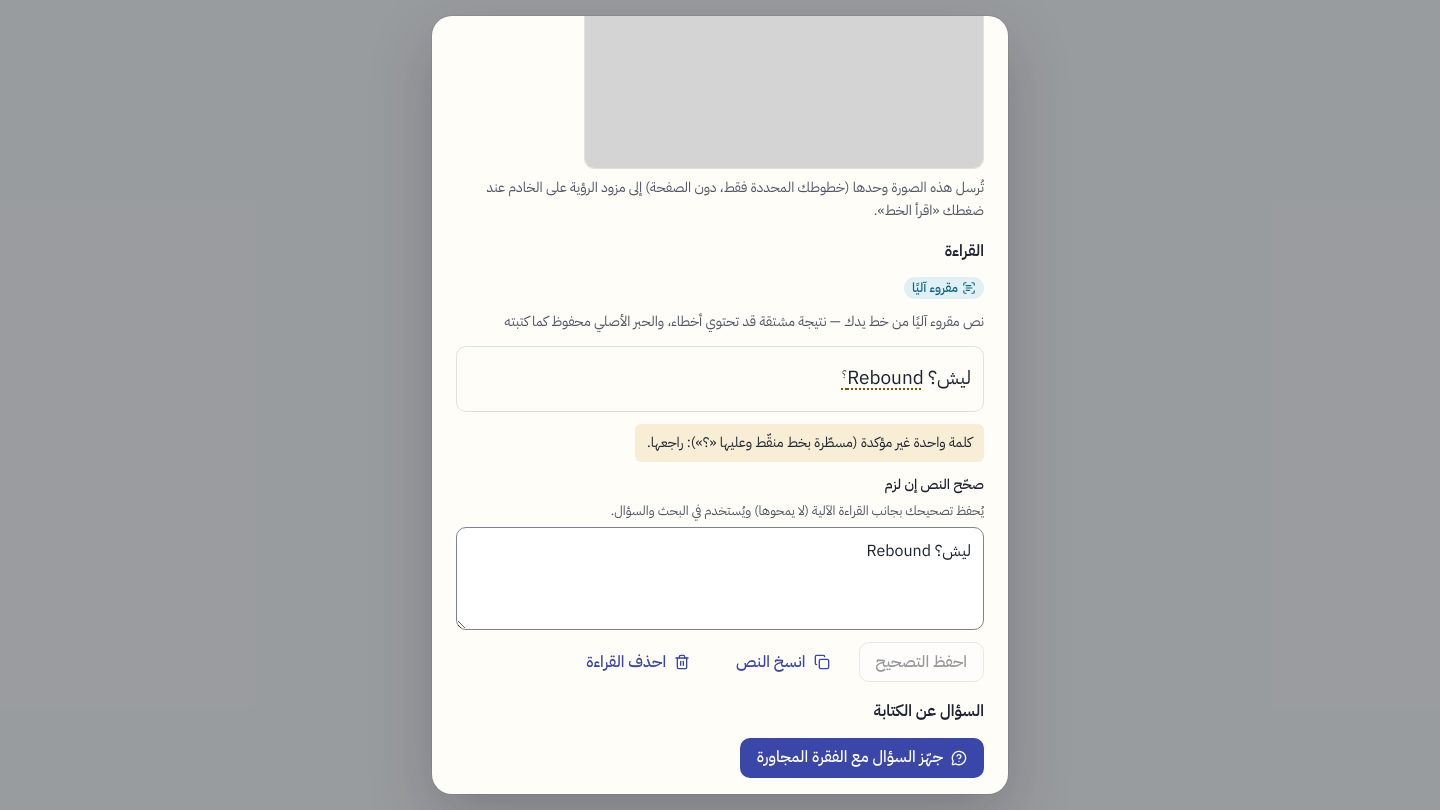
«اسأل عن المحدد» › (review) «رجوع» from the composed question returns to the reading (no second reading offered)
This screenshot has width=1440, height=810.
(page scrolled)
Check: the text "مقروء آليًا" is shown, box x1=912 y1=278 x2=958 y2=298
Click the button "جهّز السؤال مع الفقرة المجاورة".
click(862, 758)  # box x1=740 y1=738 x2=984 y2=778
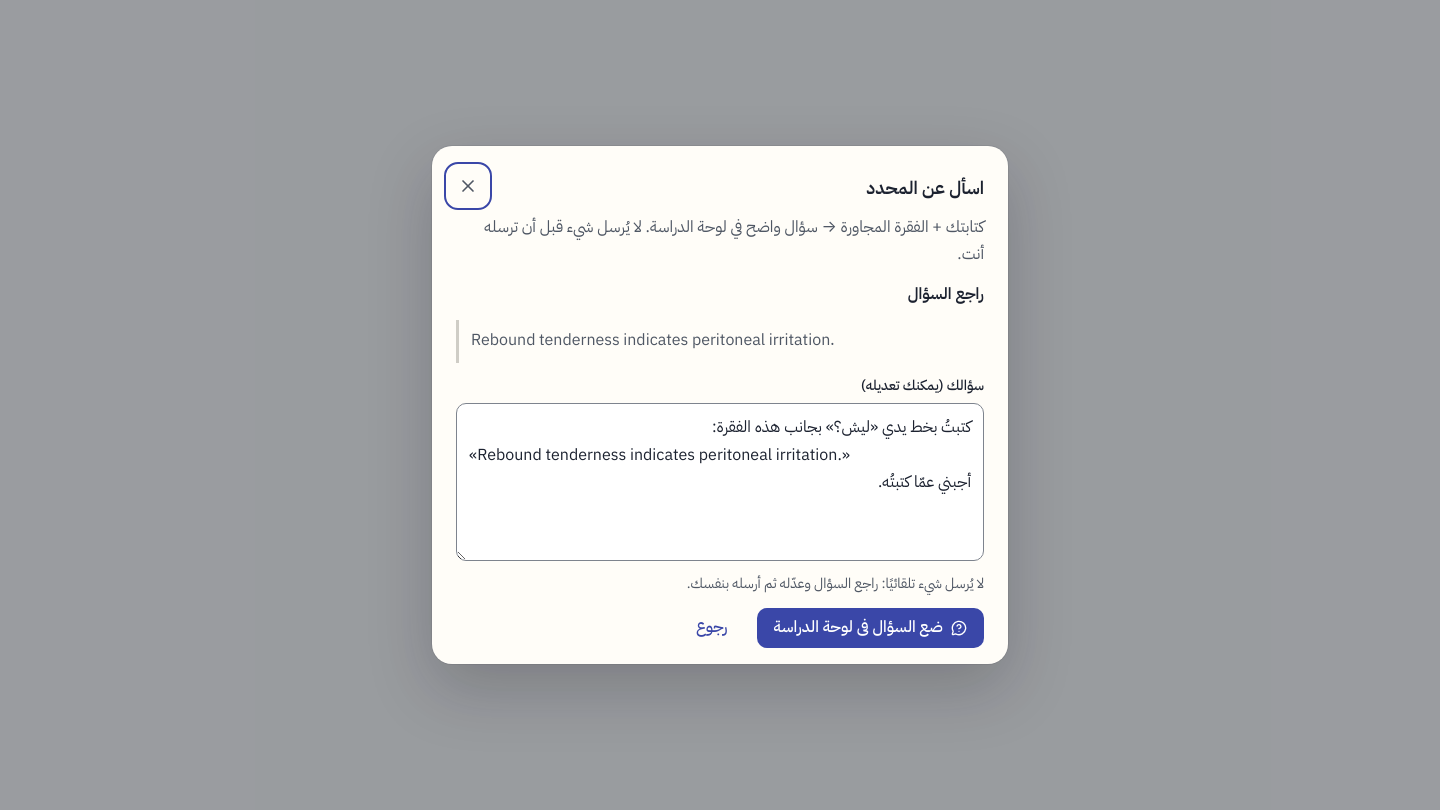
Check: the text box labelled "سؤالك (يمكنك تعديله)" is shown, box x1=456 y1=403 x2=984 y2=561
Click the button "رجوع".
click(712, 628)  # box x1=679 y1=608 x2=744 y2=648
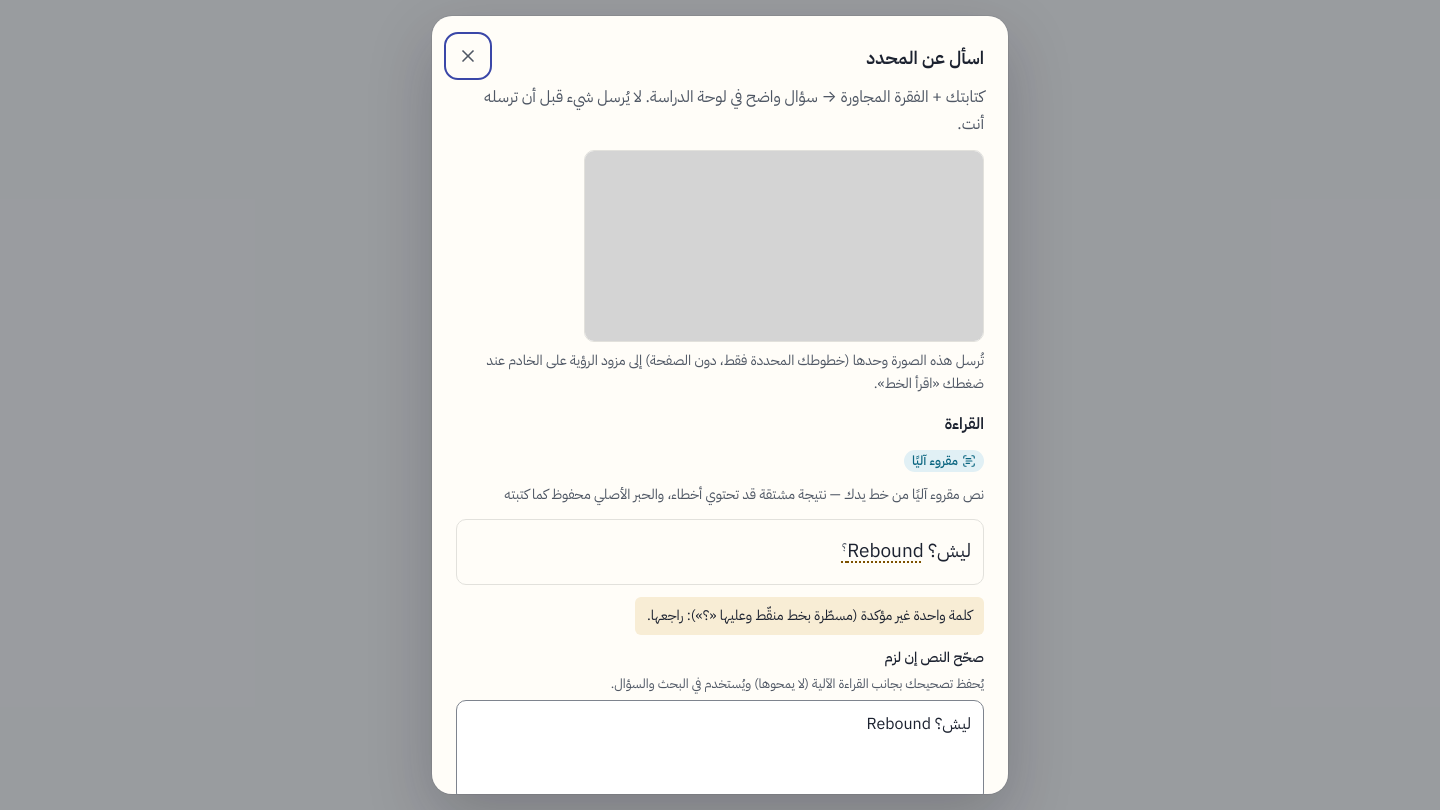
Check: the text "مقروء آليًا" is shown, box x1=912 y1=451 x2=958 y2=471
Check: the text box labelled "صحّح النص إن لزم" holds "ليش؟ Rebound", box x1=456 y1=700 x2=984 y2=794
